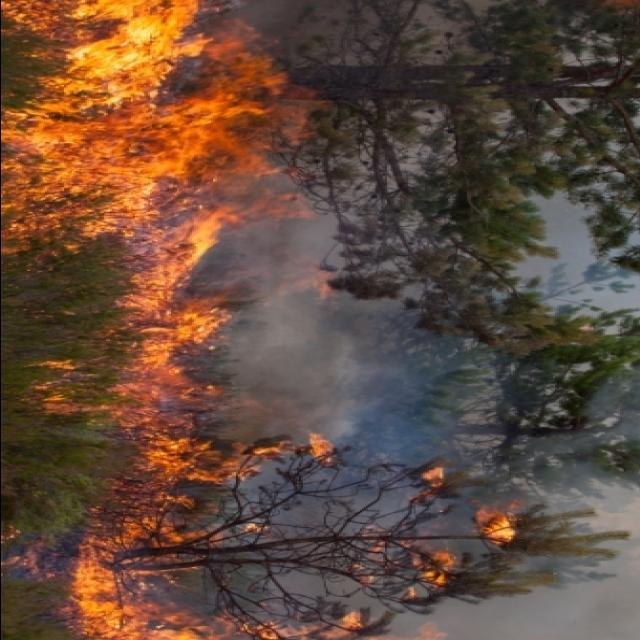Fire: (8, 6, 310, 228), (69, 235, 228, 640)
